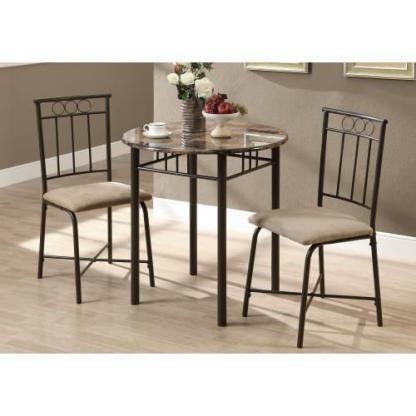chair: (247, 111, 389, 343), (22, 89, 162, 302)
